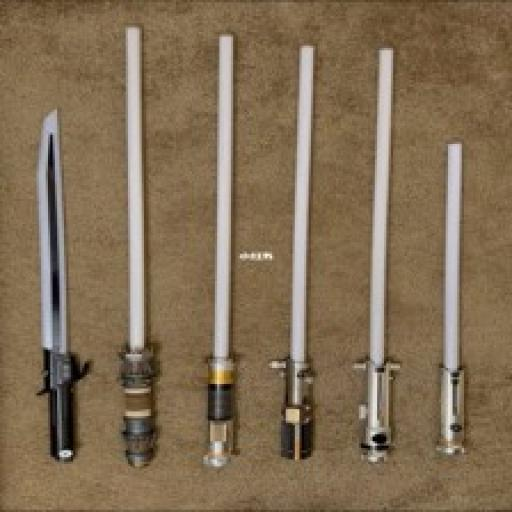lightsaber: (119, 20, 164, 476), (271, 37, 317, 458), (356, 43, 401, 464), (206, 32, 238, 466), (435, 138, 470, 451)
